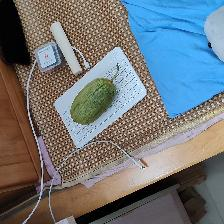gua: (72, 84, 108, 117)
